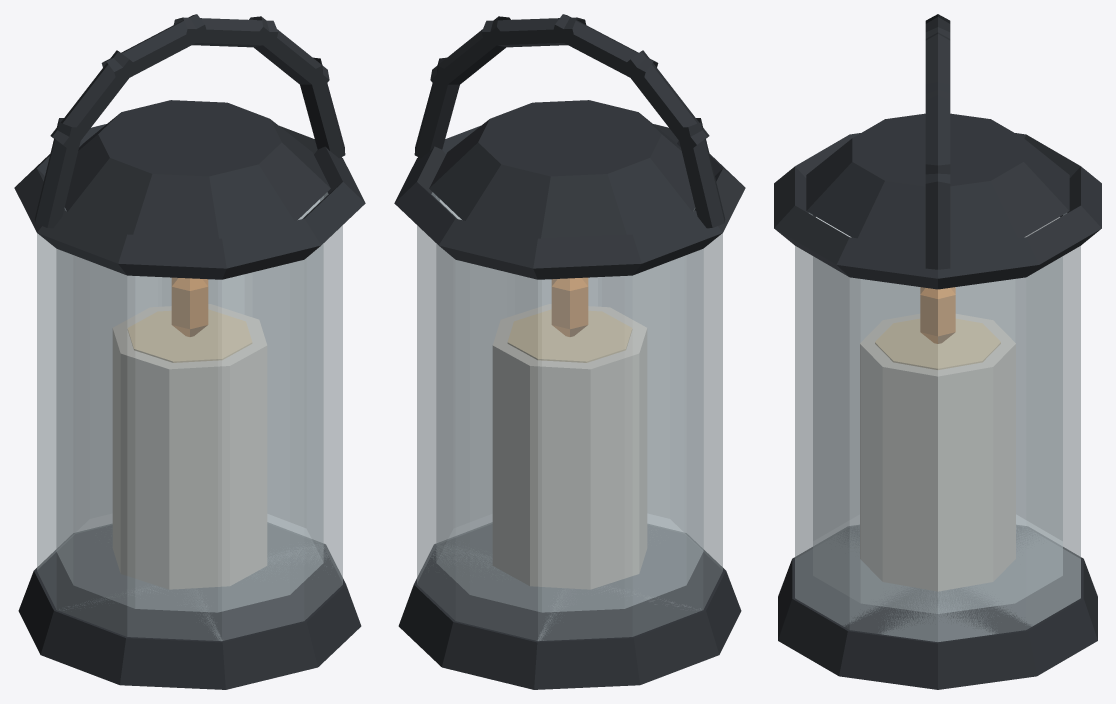
File: SM_LPI_Light_Lantern_01.fbx
The picture shows the model from 3 angles, left to right: view 1: azimuth 30°, elevation 25°; view 2: azimuth 150°, elevation 25°; view 3: azimuth 270°, elevation 25°; orthographic projection. The views are drawn at different scales.
Parts seen in each view (by area): view 1: SM_LPI_Light_Lantern_01; view 2: SM_LPI_Light_Lantern_01; view 3: SM_LPI_Light_Lantern_01.
Part boxes in pixels (x1,y1,x2,y2): SM_LPI_Light_Lantern_01: (14,14,365,689); SM_LPI_Light_Lantern_01: (394,14,745,689); SM_LPI_Light_Lantern_01: (774,14,1101,689).
Size of the model in its own units: 0.2208 by 0.4104 by 0.2073.
